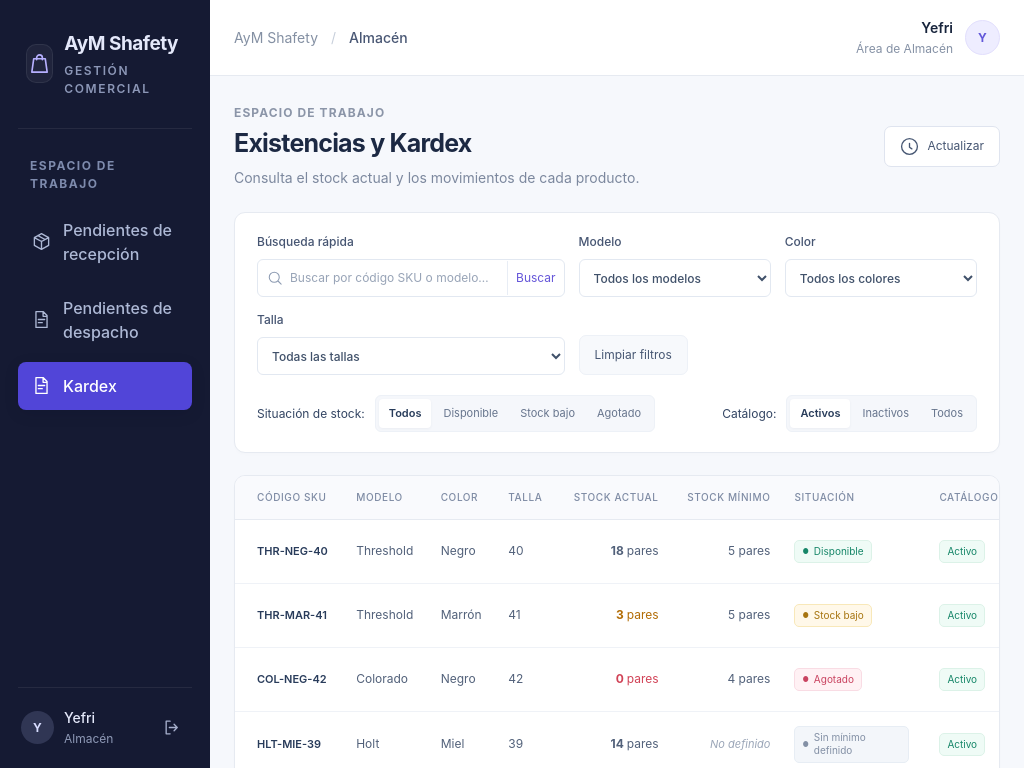
busca por SKU, consulta inactivos y muestra resultados vacíos
Check: the column heading "THR-NEG-40" is shown, box [235,519,344,583]
In the field labelled "Búsqueda rápida": (395, 278) [290,260,500,296], type "COL-NEG"
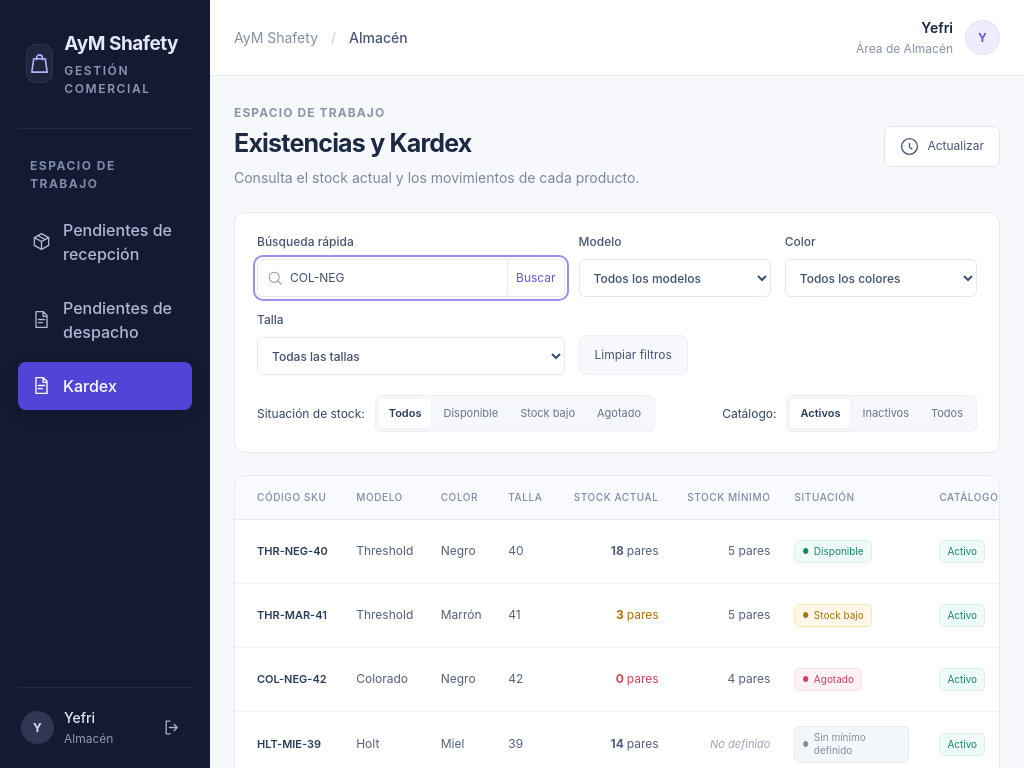
Click the button with aria-label "Buscar productos": (535, 278) [507,261,564,295]
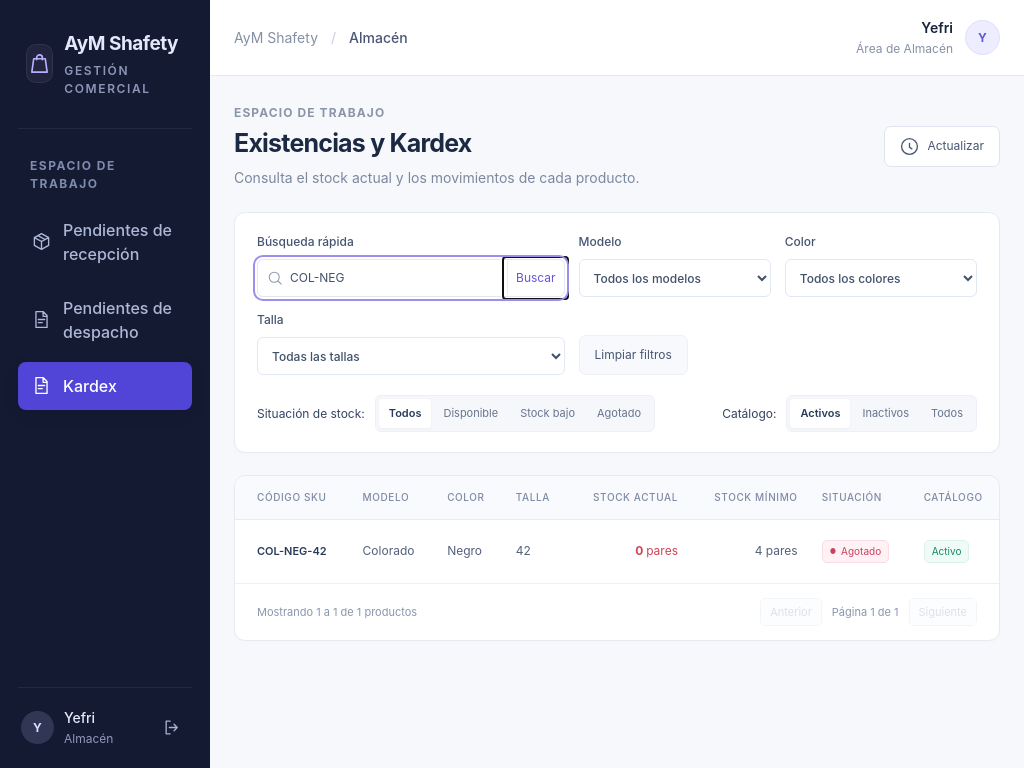
Check: the column heading "COL-NEG-42" is shown, box [235,519,351,583]
Check: the column heading "THR-NEG-40" is gone
Click the button "Limpiar filtros": (633, 355) [578,335,688,375]
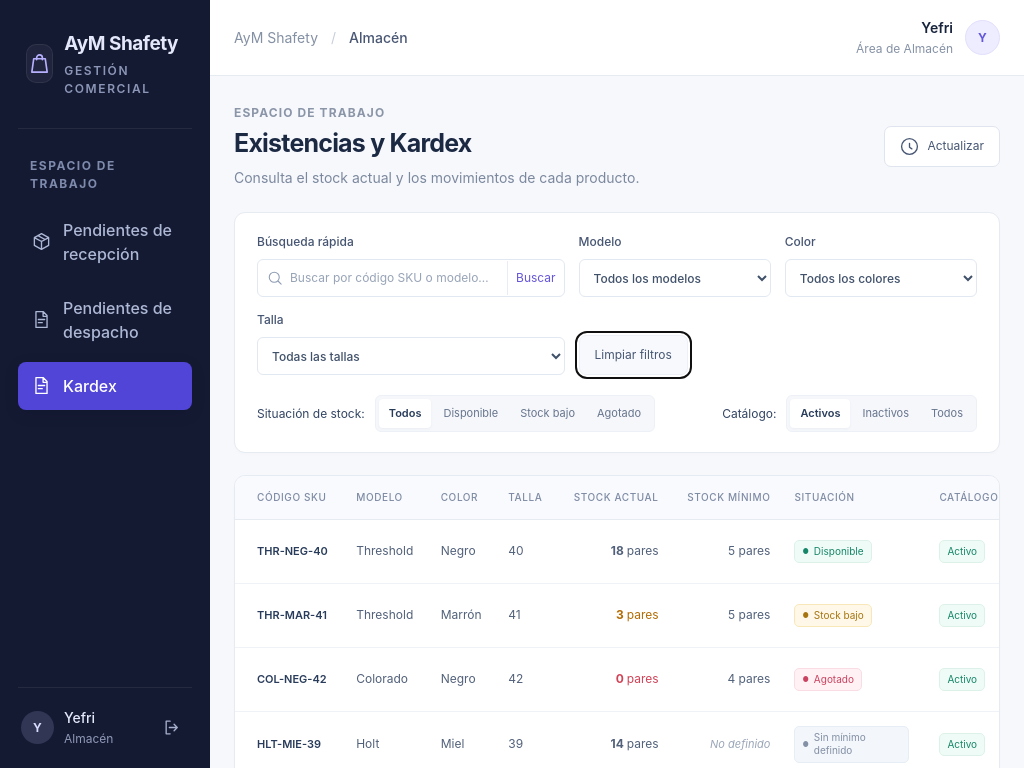
Click the button "Inactivos": (886, 414) [852,399,919,428]
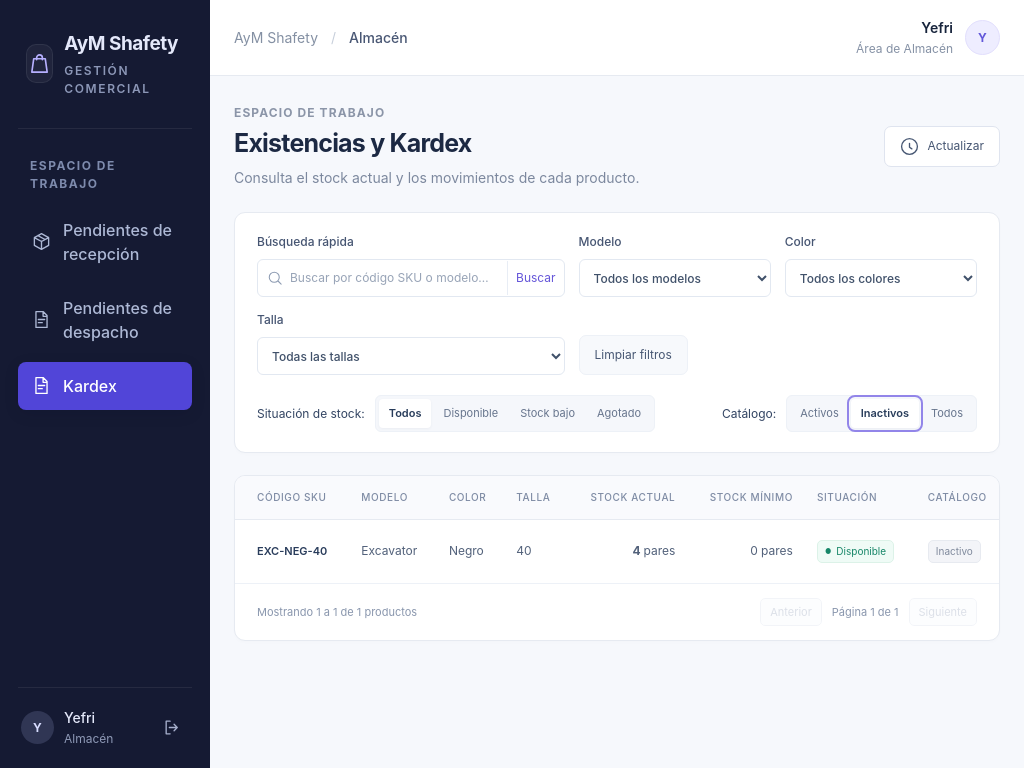
Check: the column heading "EXC-NEG-40" is shown, box [235,519,349,583]
In the field labelled "Búsqueda rápida": (395, 278) [290,260,500,296], type "no-existe"
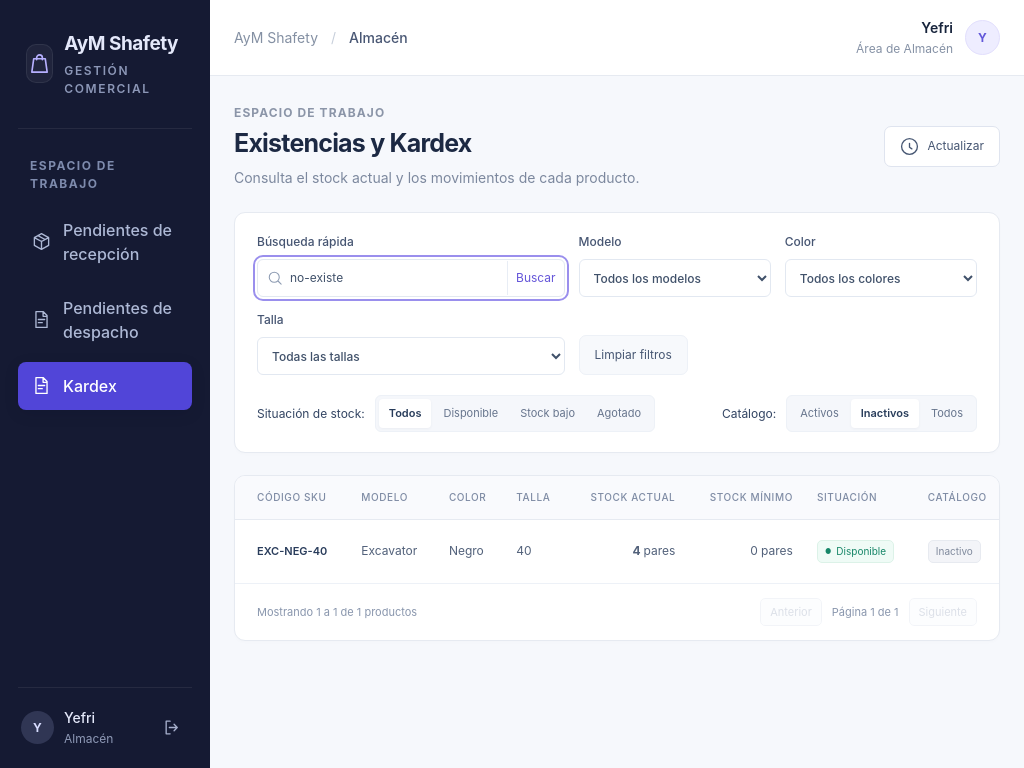
Click the button with aria-label "Buscar productos": (535, 278) [507,261,564,295]
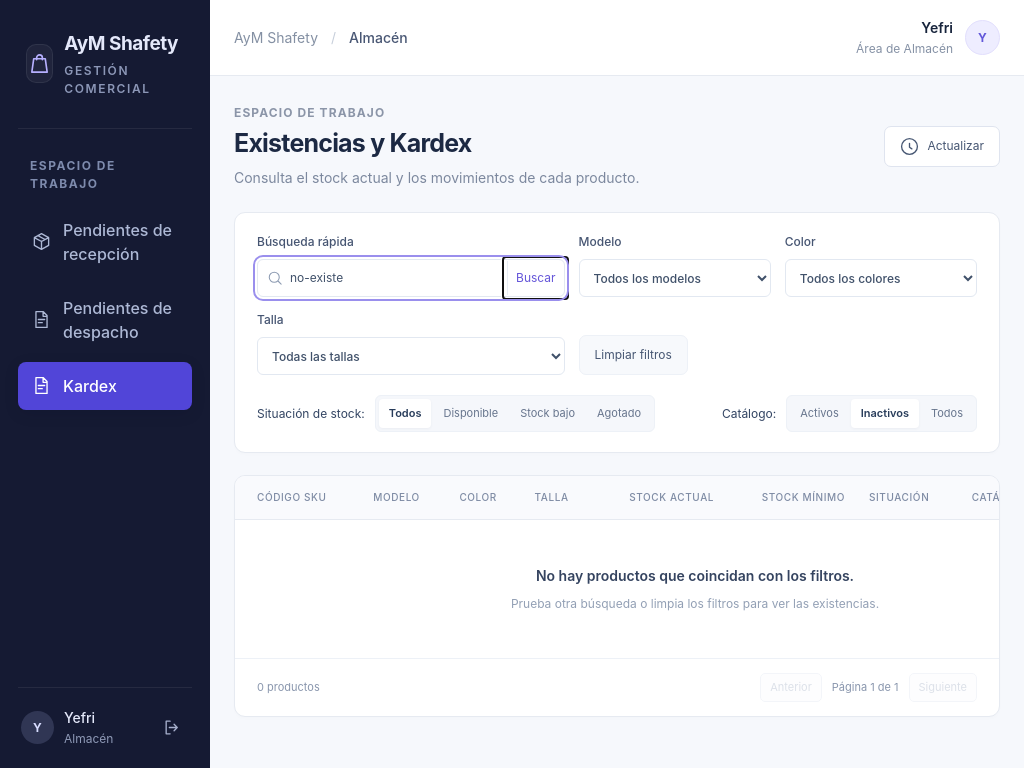
Check: the text "No hay productos que coincidan con los filtros." is shown, box [536,567,854,584]
